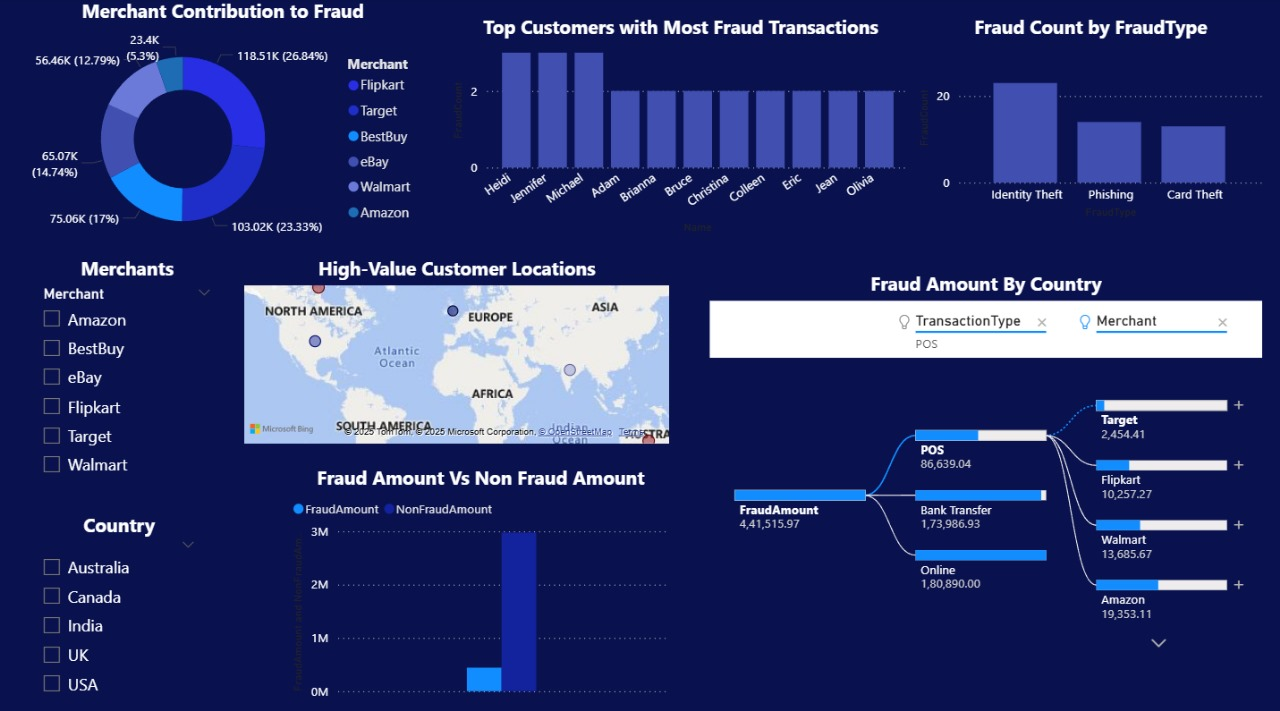

The dashboard page shown, as its layout file describes it:
{"tool":"powerbi","page":{"name":"Fraud & High-Risk Metrics","canvas":[1280,720],"ordinal":3},"visuals":[{"type":"donutChart","title":"Merchant Contribution to Fraud","fields":{"Category":["project transactions.Merchant"],"Y":["project customers.FraudAmount"]},"box":[16,0,416,256],"z":0},{"type":"map","title":"High-Value Customer Locations","fields":{"Category":["project customers.Country"],"Size":["CountNonNull(project customers.CustomerID)"]},"box":[240,256,432,192],"z":1000},{"type":"decompositionTreeVisual","title":"Fraud Amount By Country","fields":{"Analyze":["project customers.FraudAmount"],"ExplainBy":["project transactions.TransactionType","project customers.Country","project transactions.Merchant"]},"box":[704,272,560,400],"z":2000},{"type":"columnChart","title":"Fraud Count by FraudType","fields":{"Category":["project fraudflags.FraudType"],"Y":["project customers.FraudCount"]},"box":[912,16,352,208],"z":3000},{"type":"clusteredColumnChart","title":"Fraud Amount Vs Non Fraud Amount","fields":{"Y":["project customers.FraudAmount","project customers.NonFraudAmount"]},"box":[288,464,384,240],"z":4000},{"type":"columnChart","title":"Top Customers with Most Fraud Transactions","fields":{"Category":["project customers.Name"],"Y":["project customers.FraudCount"]},"box":[448,16,464,224],"z":5000},{"type":"slicer","title":"Country","fields":{"Values":["project customers.Country"]},"box":[32,512,176,192],"z":6000},{"type":"slicer","title":"Merchants","fields":{"Values":["project transactions.Merchant"]},"box":[32,256,192,240],"z":7000}]}

Visuals, with their boxes in screenshot pixels (x1, y1, x2, y2), scaled from the page's 1280x720 canvas onto the 1280x711 screenshot:
"Merchant Contribution to Fraud" donutChart: box(16, 0, 432, 253)
"High-Value Customer Locations" map: box(240, 253, 672, 442)
"Fraud Amount By Country" decompositionTreeVisual: box(704, 269, 1264, 664)
"Fraud Count by FraudType" columnChart: box(912, 16, 1264, 221)
"Fraud Amount Vs Non Fraud Amount" clusteredColumnChart: box(288, 458, 672, 695)
"Top Customers with Most Fraud Transactions" columnChart: box(448, 16, 912, 237)
"Country" slicer: box(32, 506, 208, 695)
"Merchants" slicer: box(32, 253, 224, 490)
